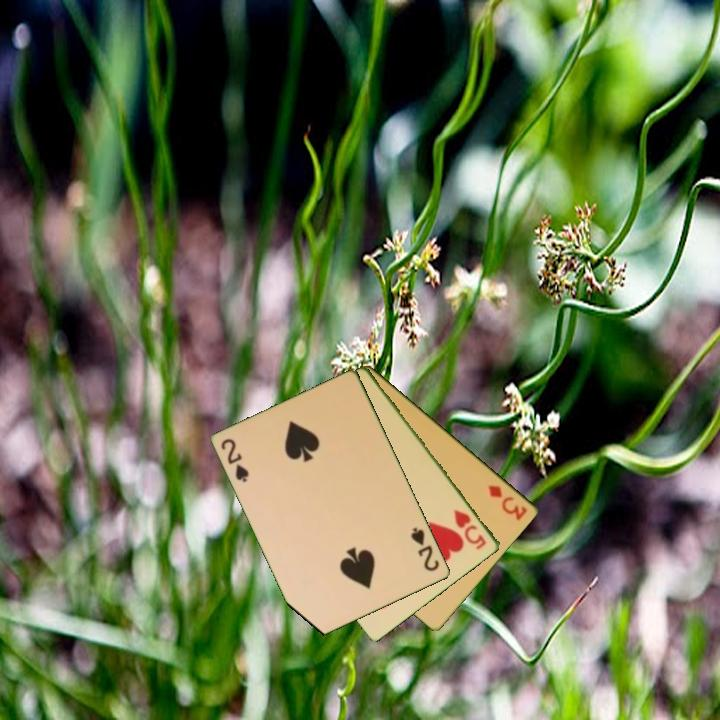2s: (407, 524, 443, 574), (218, 435, 252, 485)
3d: (485, 481, 531, 523)
5h: (451, 506, 490, 553)
